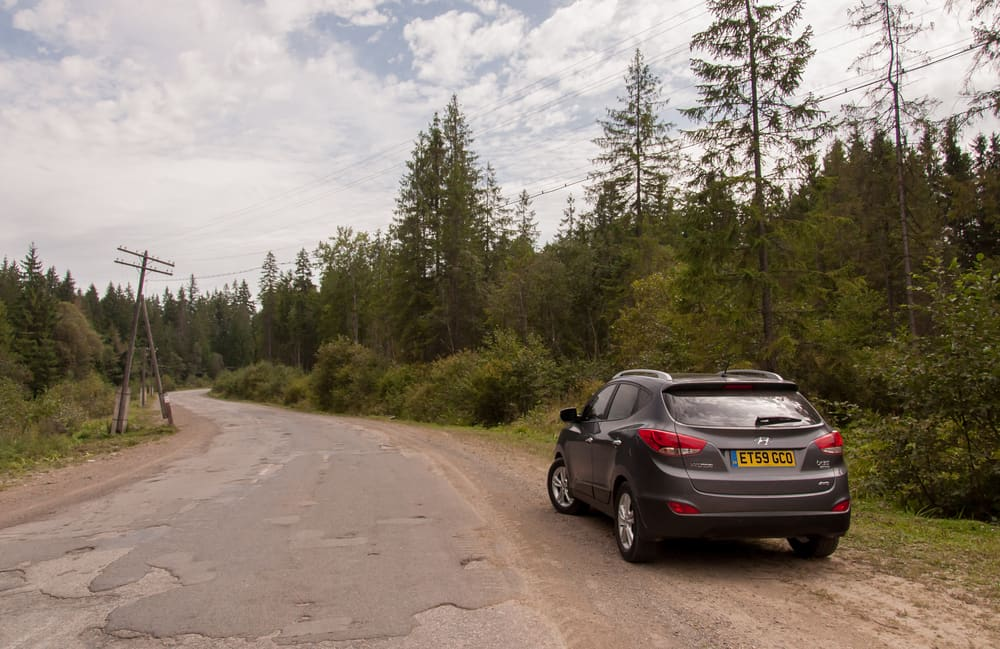car: (546, 368, 853, 569)
